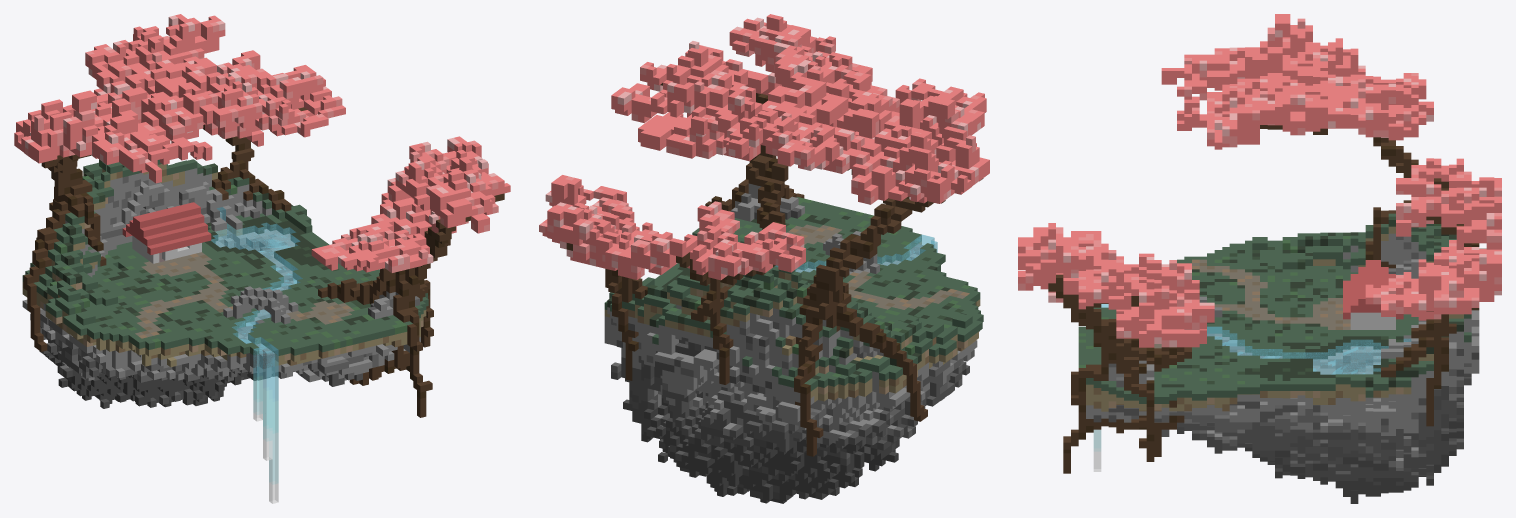
Rendered from sakura.glb.
3 views of the same model, side by side, from view 1: azimuth 30°, elevation 25°; view 2: azimuth 150°, elevation 25°; view 3: azimuth 270°, elevation 25° (orthographic). The views are drawn at different scales.
Parts seen in each view (by area): view 1: Freee_Iland-1, Freee_Iland-0; view 2: Freee_Iland-1, Freee_Iland-0; view 3: Freee_Iland-1, Freee_Iland-0.
Boxes of the visible parts, box(x1,y1,x2,y2) form: Freee_Iland-1: box(14, 14, 510, 417); Freee_Iland-0: box(211, 207, 302, 503); Freee_Iland-1: box(539, 14, 989, 503); Freee_Iland-0: box(775, 234, 937, 272); Freee_Iland-1: box(1018, 14, 1501, 503); Freee_Iland-0: box(1093, 304, 1411, 471).
Size of the model in its own units: 6.4 by 5.9 by 6.4.
2 materials, 2 textured.
